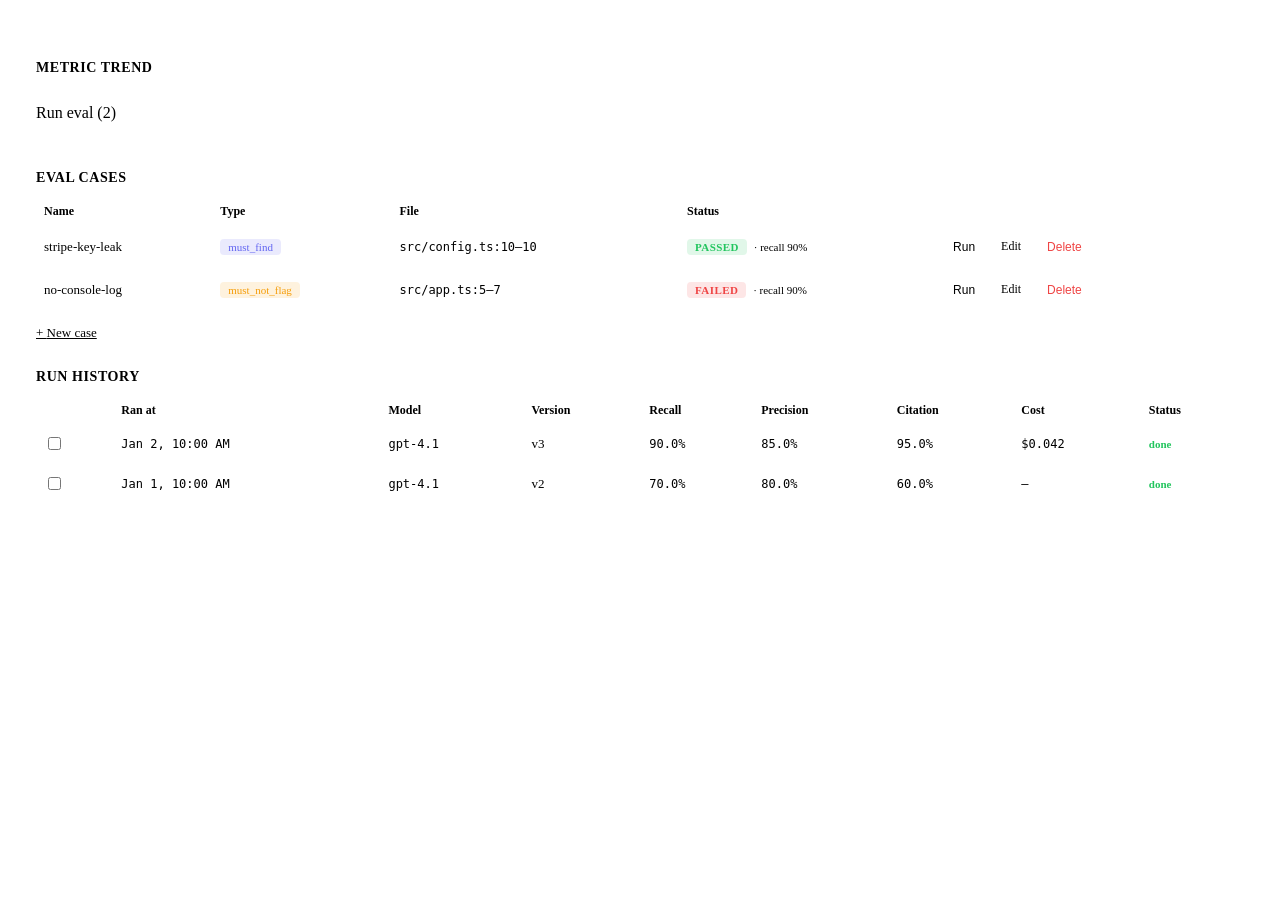
Test: EvalsTab — AC-26/27: compare view › dismisses the CompareView when Close is clicked
This screenshot has width=1280, height=900.
What coordinates should you click on to do the following:
click the checkbox named "Compare batch1"
I would click on:
 (54, 444)
Its box is [48,437,61,450].
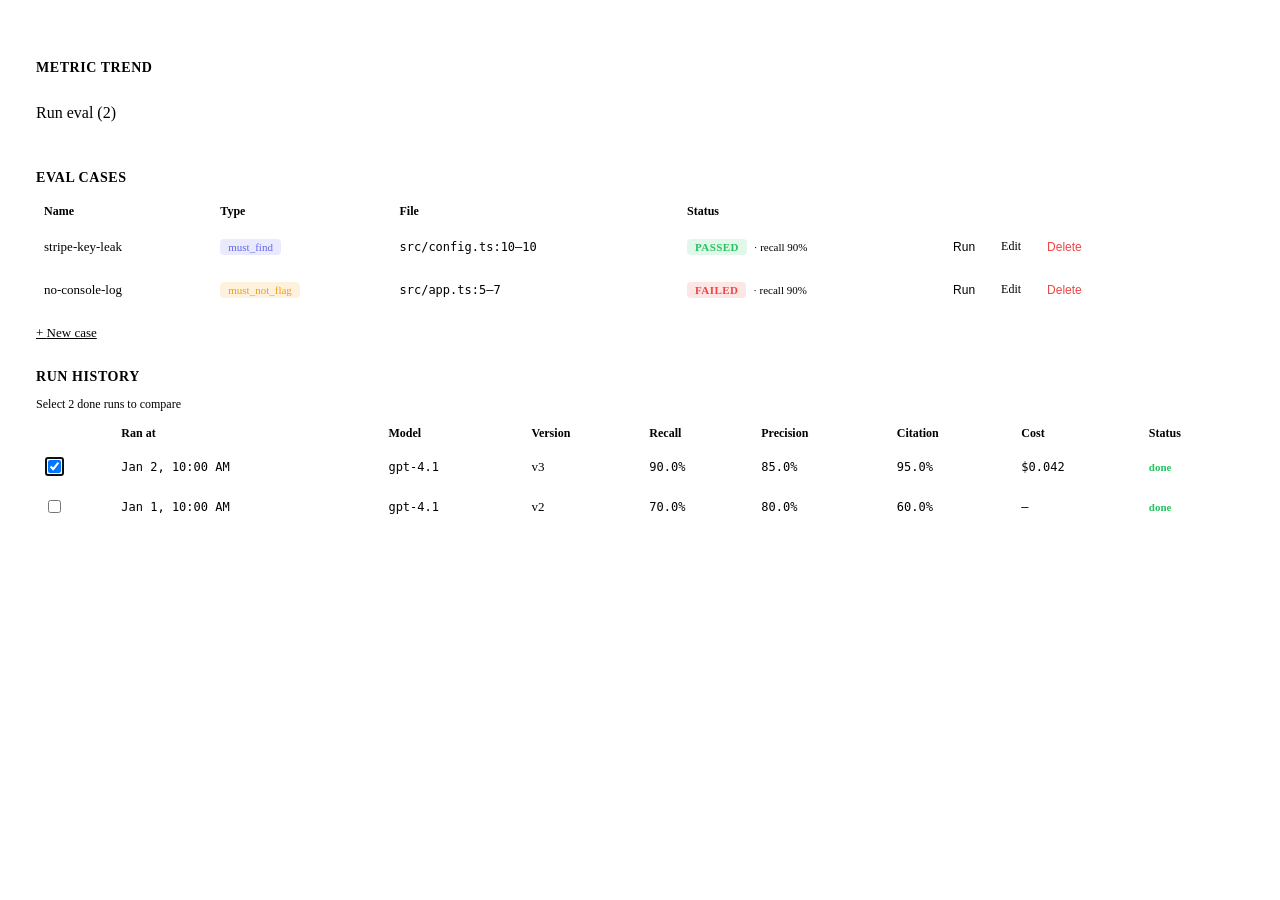
What coordinates should you click on to do the following:
click the checkbox named "Compare batch2"
I would click on:
 (54, 506)
Its box is [48,500,61,513].
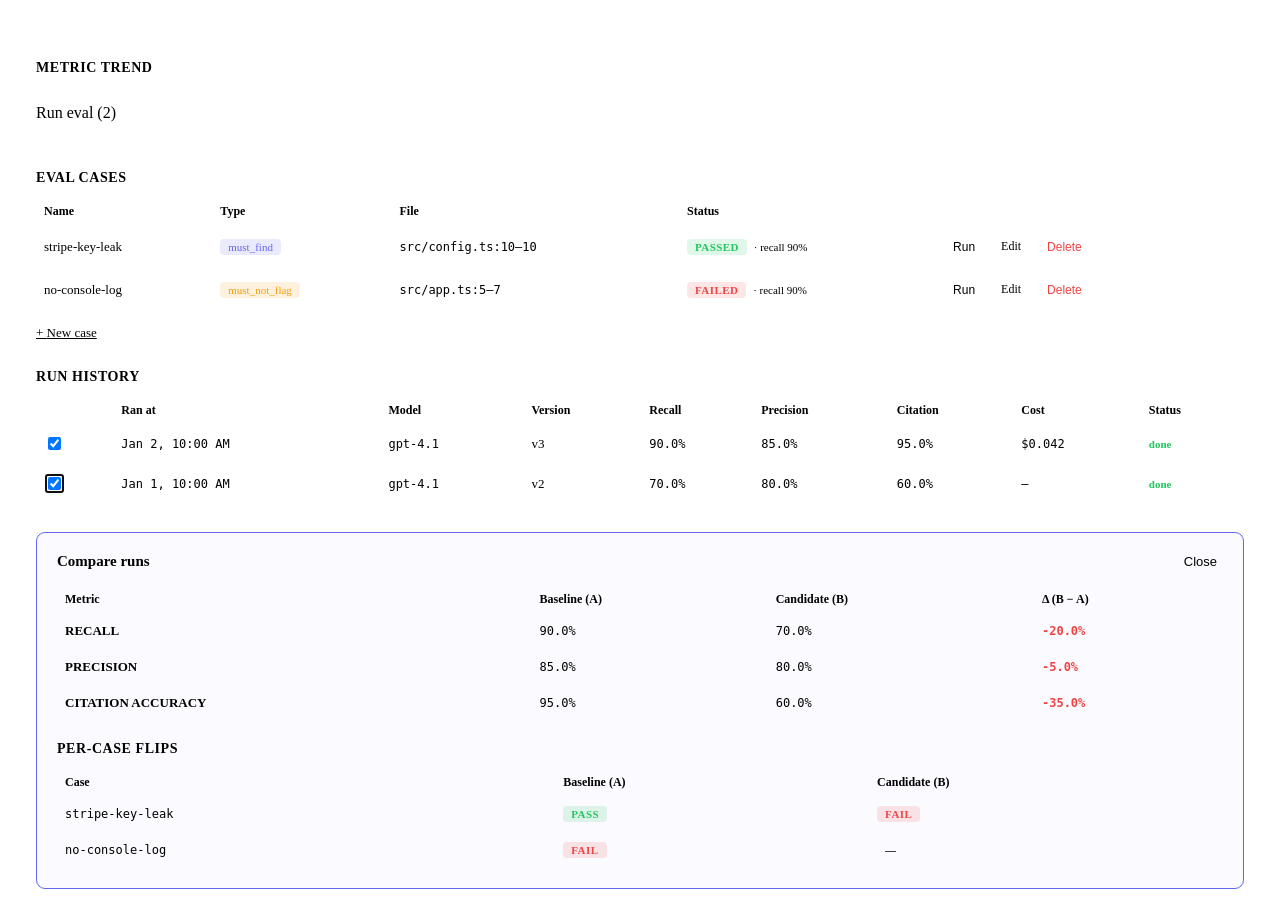
Now the element with test id "compare-view" is shown, box [36,532,1244,889]
What coordinates should you click on to do the following:
click the button "Close"
I would click on:
 (1200, 562)
Its box is [1178,553,1223,570].
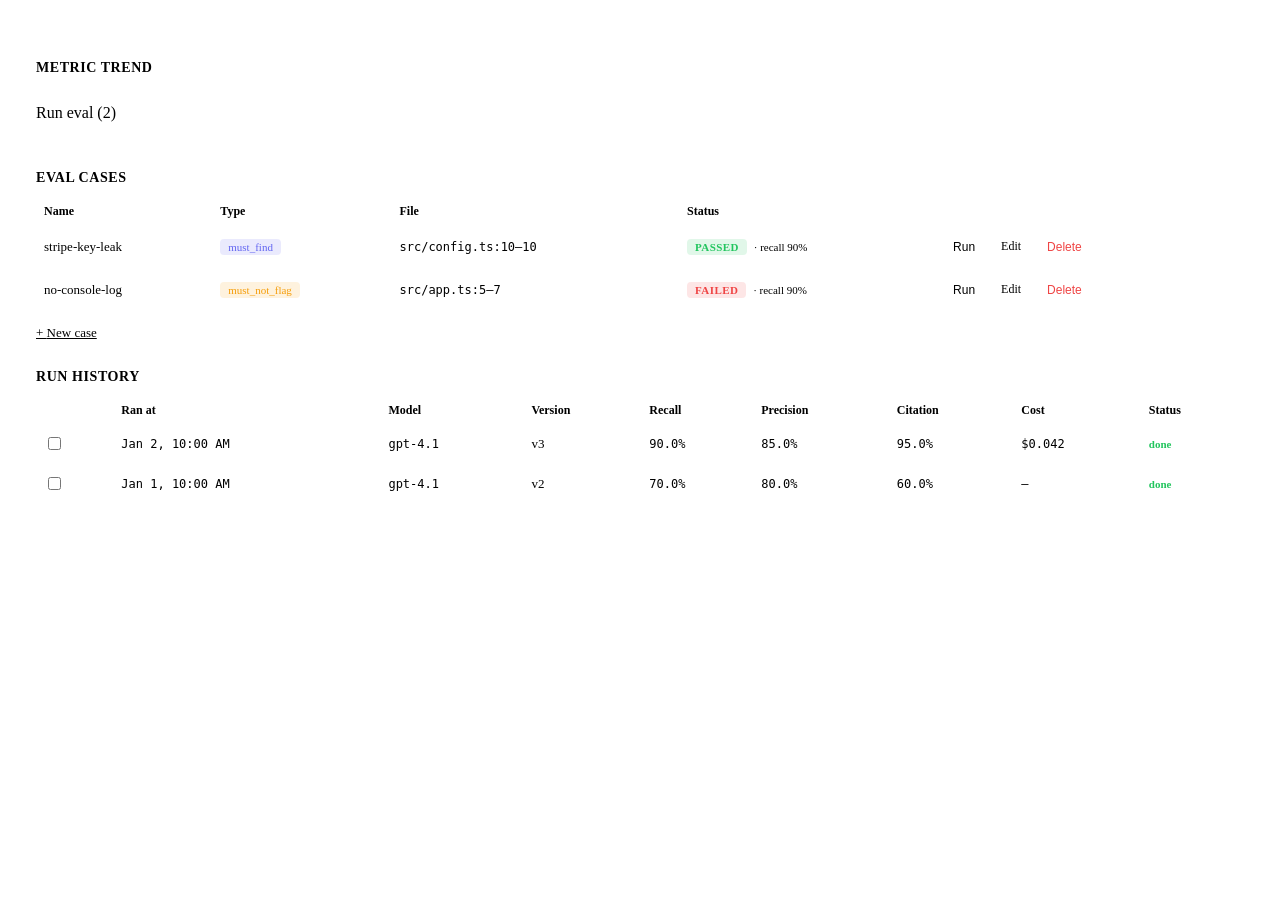
Now the element with test id "compare-view" is gone
